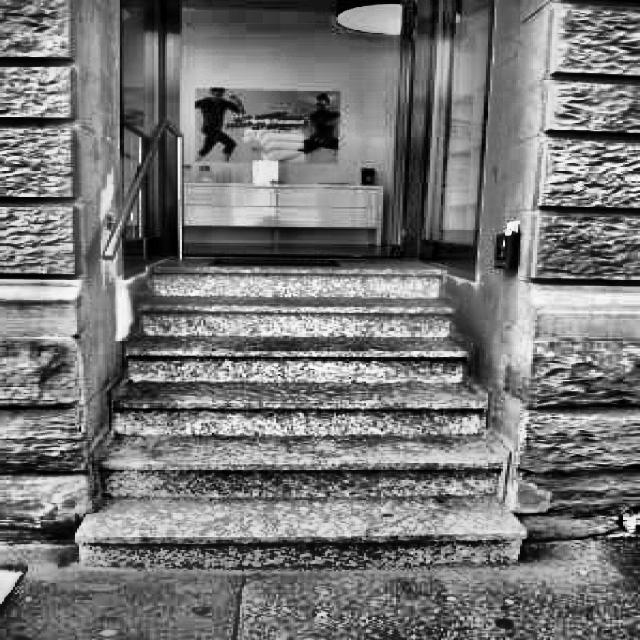escada: (75, 269, 520, 566)
